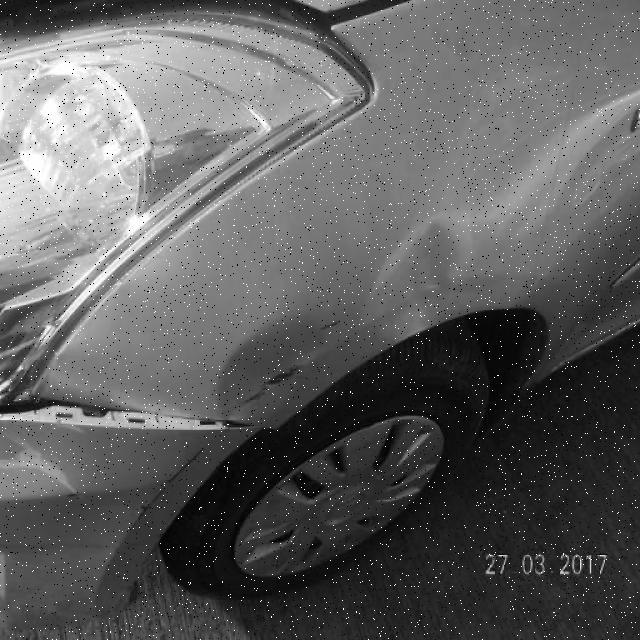car damage: (215, 310, 356, 435), (0, 394, 256, 443), (372, 217, 465, 342), (118, 447, 215, 554), (234, 350, 324, 417), (316, 316, 342, 333)
